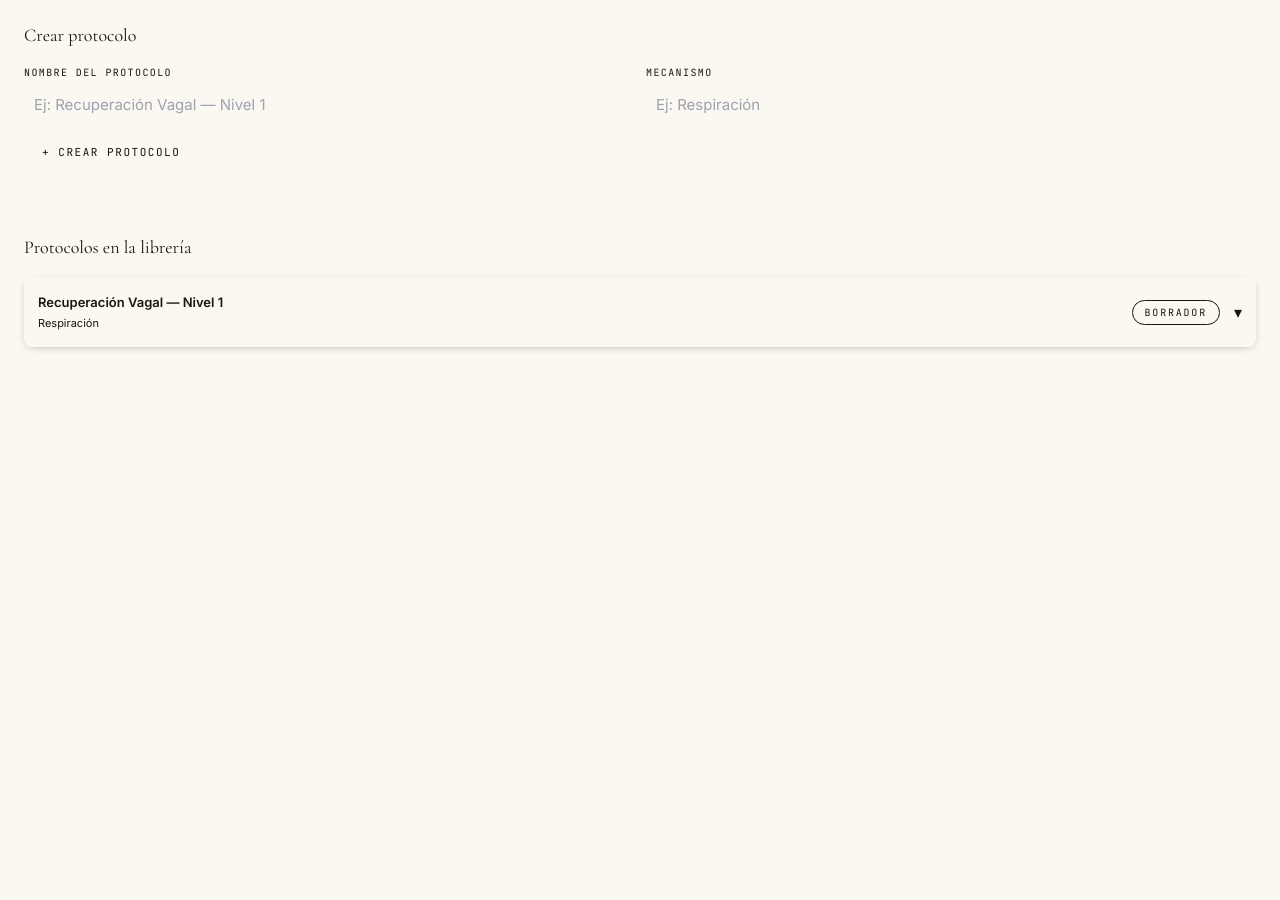
Test: AdminStressProtocolsPanel › shows the audio uploader only for "Meditación guiada" resources, not for other types
Click the button "Recuperación Vagal — Nivel 1 Respiración Borrador ▾".
click(131, 302)  # box [38,281,1242,343]
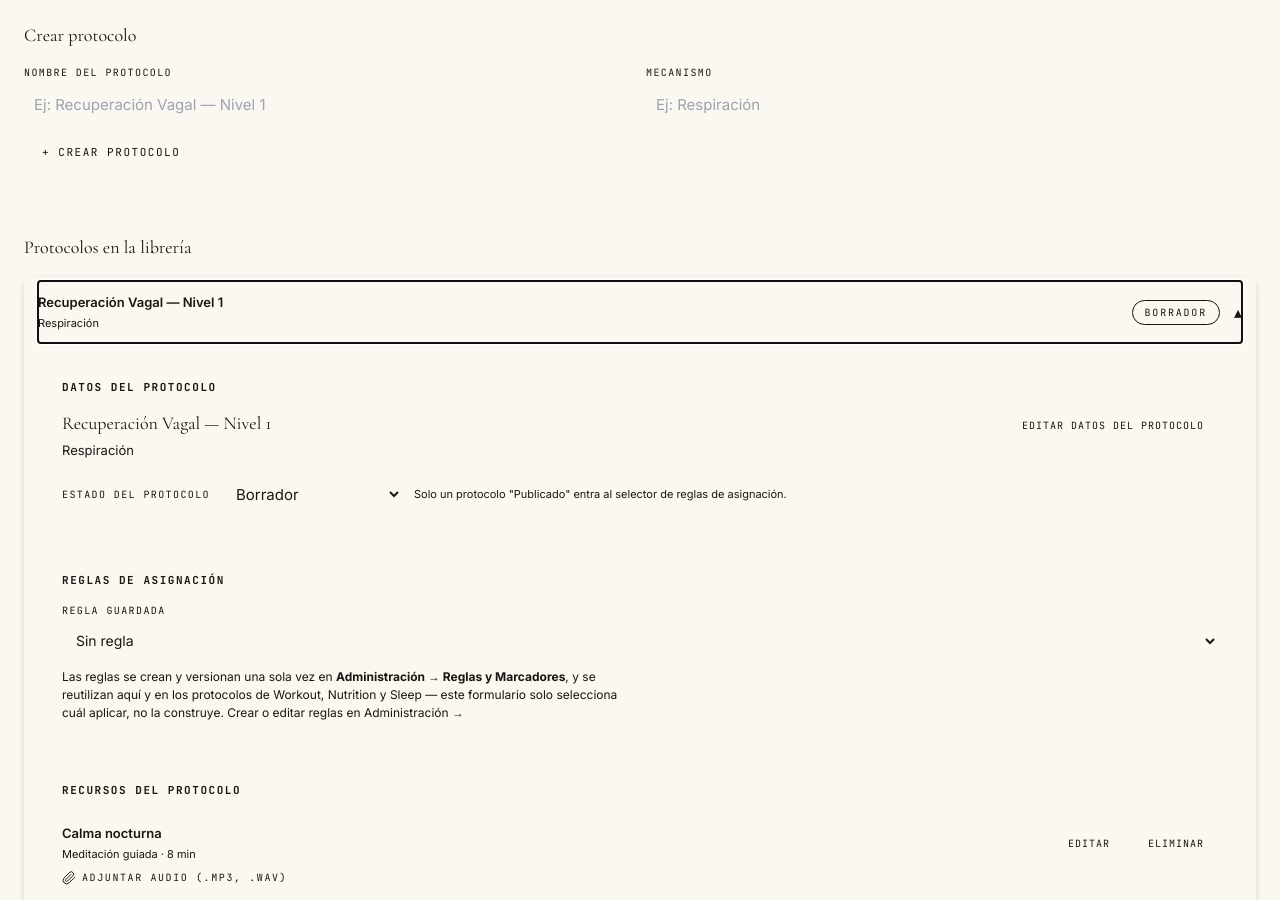
Now the text "Calma nocturna" is shown, box [62,825,162,841]
Now the text "Adjuntar audio (.mp3, .wav)" is shown once, box [62,870,287,884]
